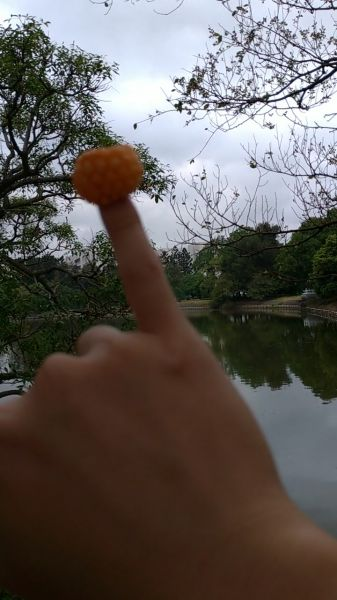eggs: (73, 148, 146, 203)
